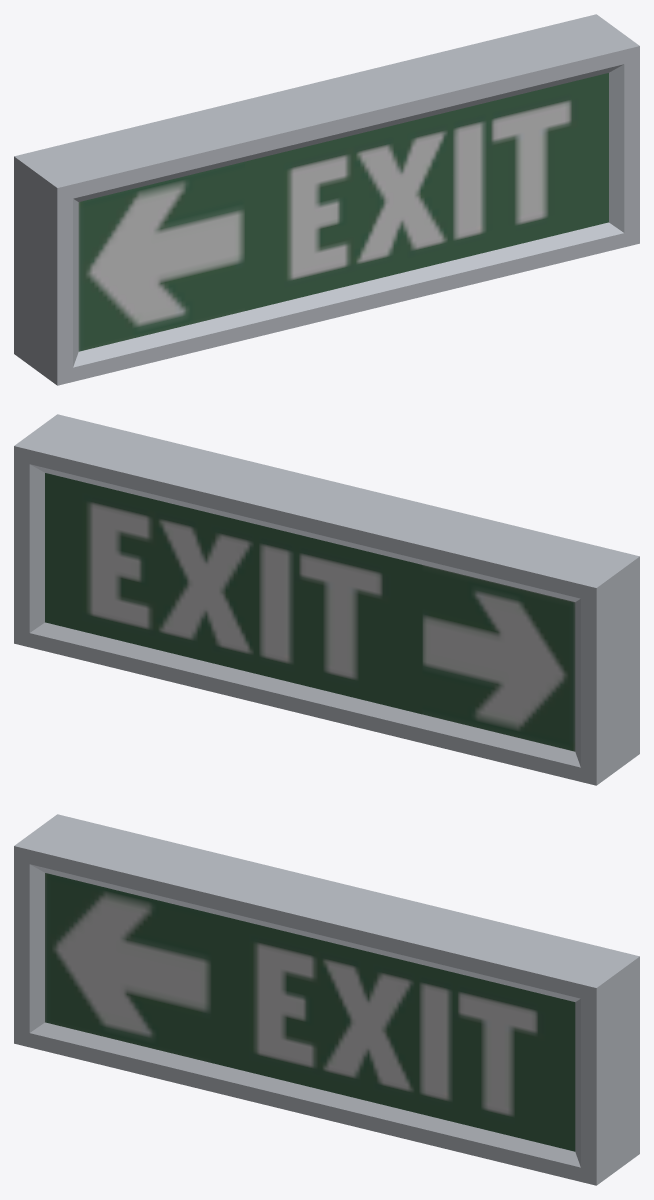
File: SM_Sign_Exit_03.obj
The picture shows the model from 3 angles, top to bottom: view 1: azimuth 30°, elevation 25°; view 2: azimuth 150°, elevation 25°; view 3: azimuth 330°, elevation 25°; orthographic projection.
Visible parts, largest first — view 1: SM_Sign_Exit_03_0; view 2: SM_Sign_Exit_03_0; view 3: SM_Sign_Exit_03_0.
Boxes of the visible parts, x1,y1,x2,y2 form: SM_Sign_Exit_03_0: (14, 14, 639, 385); SM_Sign_Exit_03_0: (14, 414, 639, 785); SM_Sign_Exit_03_0: (14, 814, 639, 1185).
Size of the model in its own units: 0.8481 by 0.2749 by 0.1095.
1 material, 1 textured.
